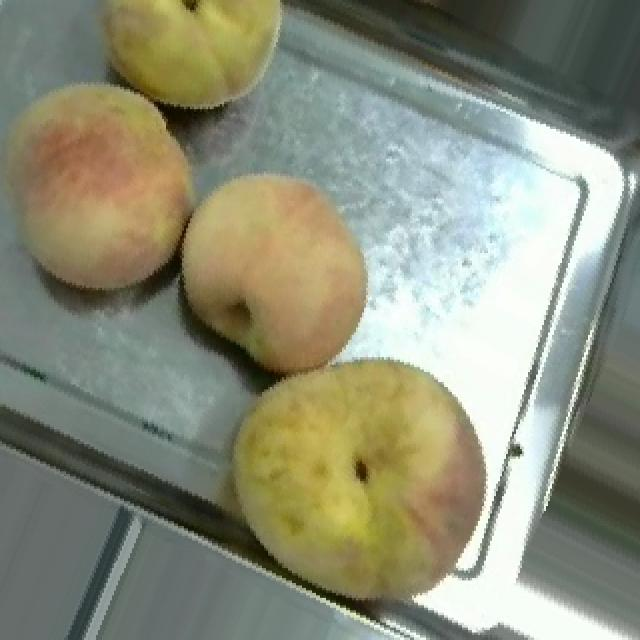Fruit: (194, 320, 528, 640), (142, 139, 394, 407), (0, 57, 230, 323), (70, 0, 310, 134)
